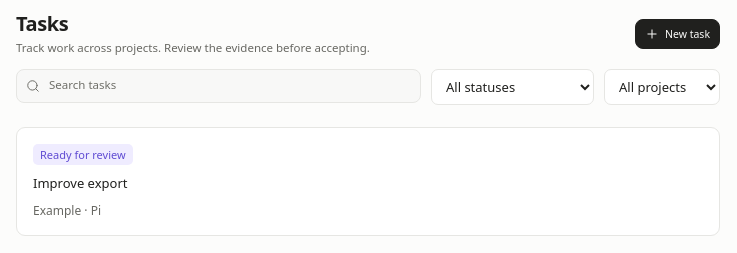
it: task workflow UI › filters tasks without changing their underlying records
This screenshot has width=737, height=253.
Step 1. Select "Failed" in the dropdown named "All statuses" → {"x": 512, "y": 87}, box [431,69,594,105]
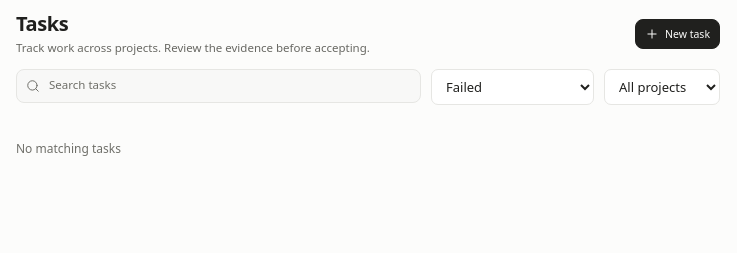
Result: the text "No matching tasks" is shown at [16,140,121,157]
Step 2. Select "Ready for review" in the dropdown named "All statuses" → {"x": 512, "y": 87}, box [431,69,594,105]
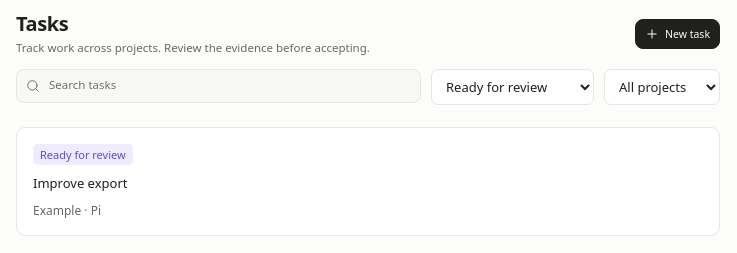
Result: the text "Improve export" is shown at [33,174,128,193]
